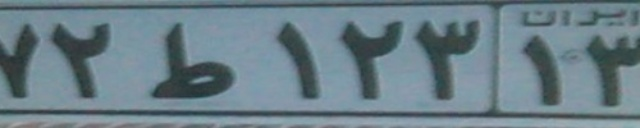1: (274, 20, 320, 99), (521, 33, 565, 106)
2: (52, 21, 123, 98), (337, 19, 403, 100)
3: (413, 18, 482, 101), (584, 32, 638, 104)
7: (0, 22, 46, 99)
taa: (153, 19, 236, 98)
